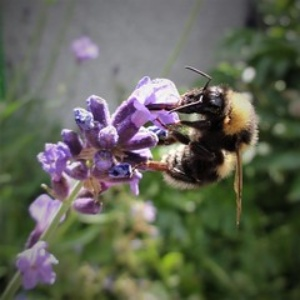bee: (152, 64, 262, 229)
